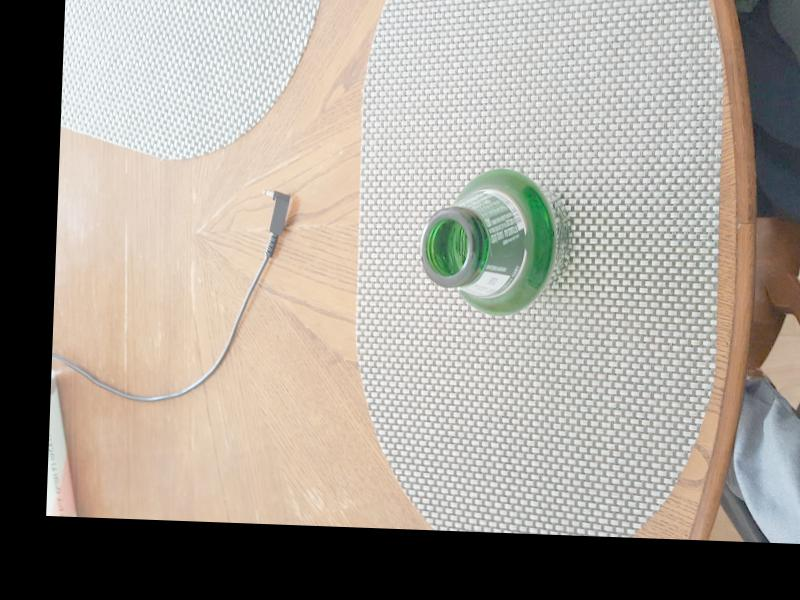Beer: (420, 172, 572, 309)
